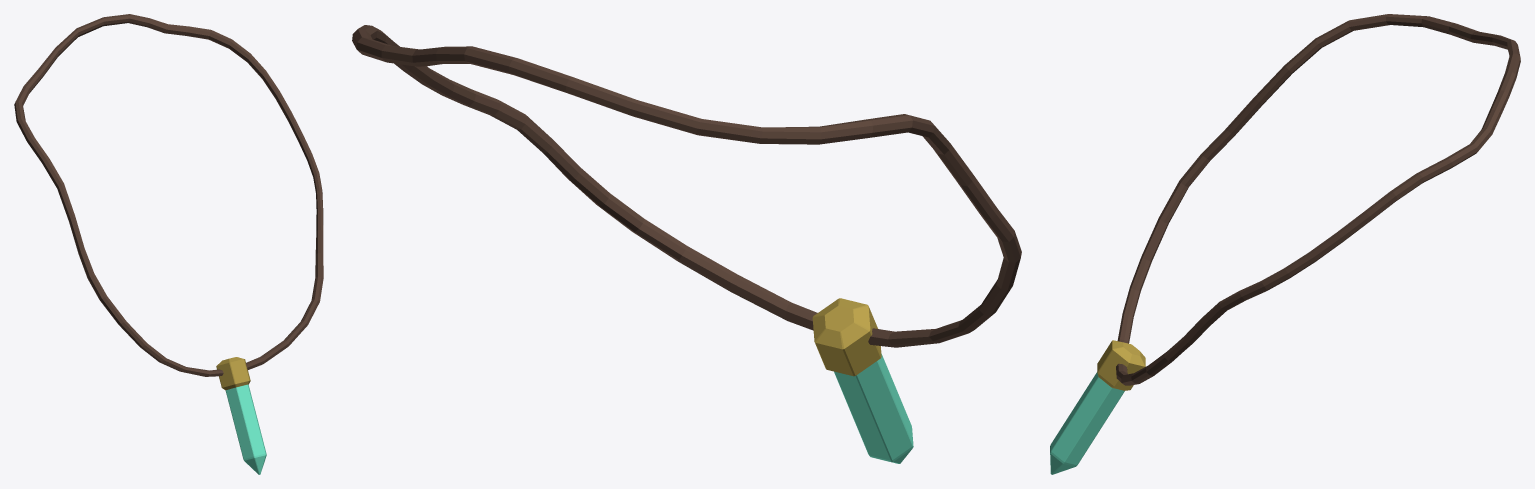
Rendered from necklace3.glb.
3 renders of one model, left to right at view 1: azimuth 30°, elevation 25°; view 2: azimuth 150°, elevation 25°; view 3: azimuth 270°, elevation 25°, orthographic. The views are drawn at different scales.
Parts seen in each view (by area): view 1: Necklace3; view 2: Necklace3; view 3: Necklace3.
Part boxes in pixels (<box>): Necklace3: <box>14,14,323,474</box>; Necklace3: <box>352,25,1021,463</box>; Necklace3: <box>1050,14,1520,474</box>.
Bounding box in the file's own units: 0.8537 × 1.01 × 0.9993.
